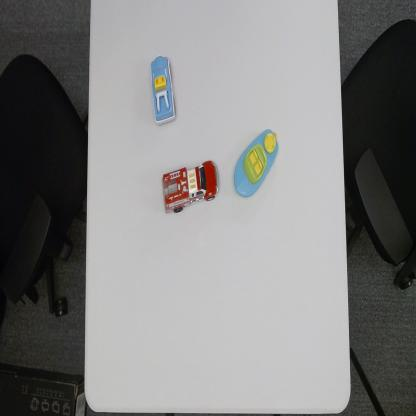Boat: (231, 126, 280, 199)
Car: (149, 54, 177, 126)
Firetruck: (161, 157, 220, 218)
